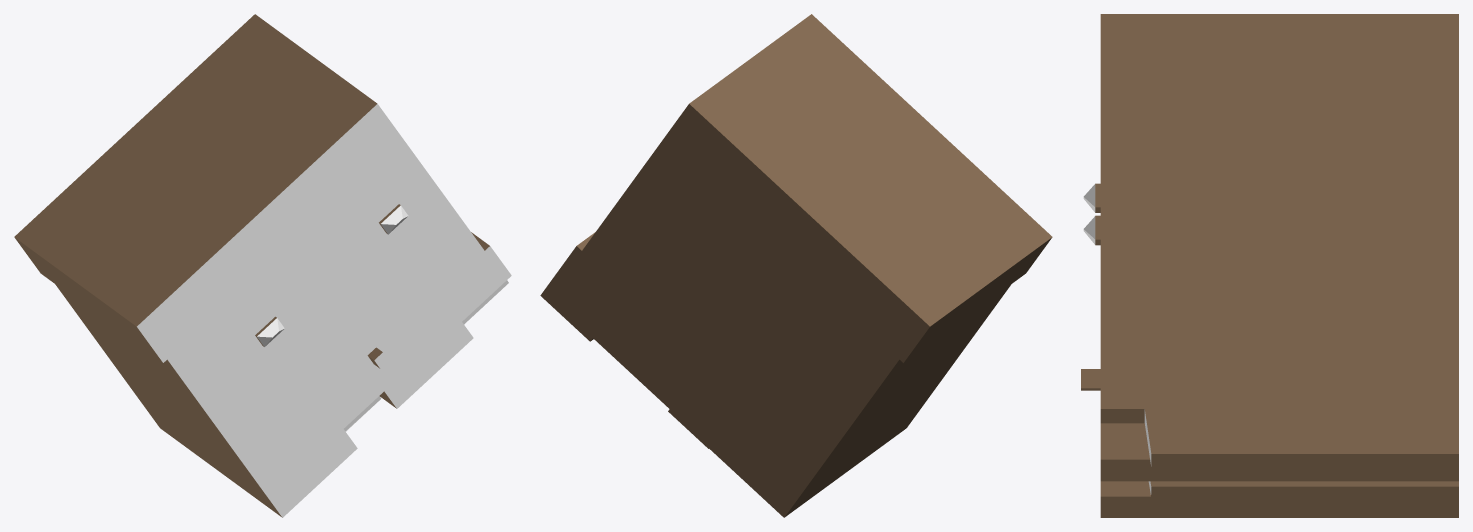
The picture shows the model from 3 angles, left to right: view 1: azimuth 30°, elevation 25°; view 2: azimuth 150°, elevation 25°; view 3: azimuth 270°, elevation 25°; orthographic projection. The views are drawn at different scales.
Parts seen in each view (by area): view 1: City_1885241; view 2: City_1885241; view 3: City_1885241.
Boxes of the visible parts, x1,y1,x2,y2 form: City_1885241: (14, 14, 511, 517); City_1885241: (540, 14, 1052, 517); City_1885241: (1081, 14, 1458, 517).
Size of the model in its own units: 2063 by 1978 by 1185.
